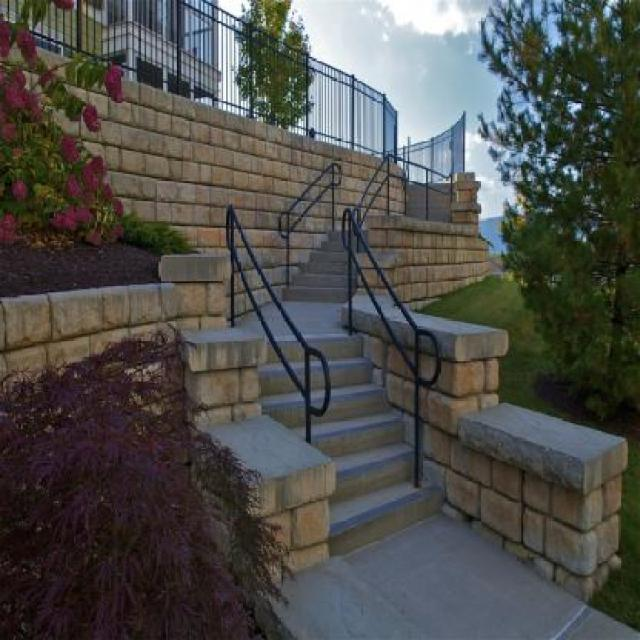stair: (260, 336, 445, 558), (278, 228, 369, 303), (401, 177, 457, 223)
